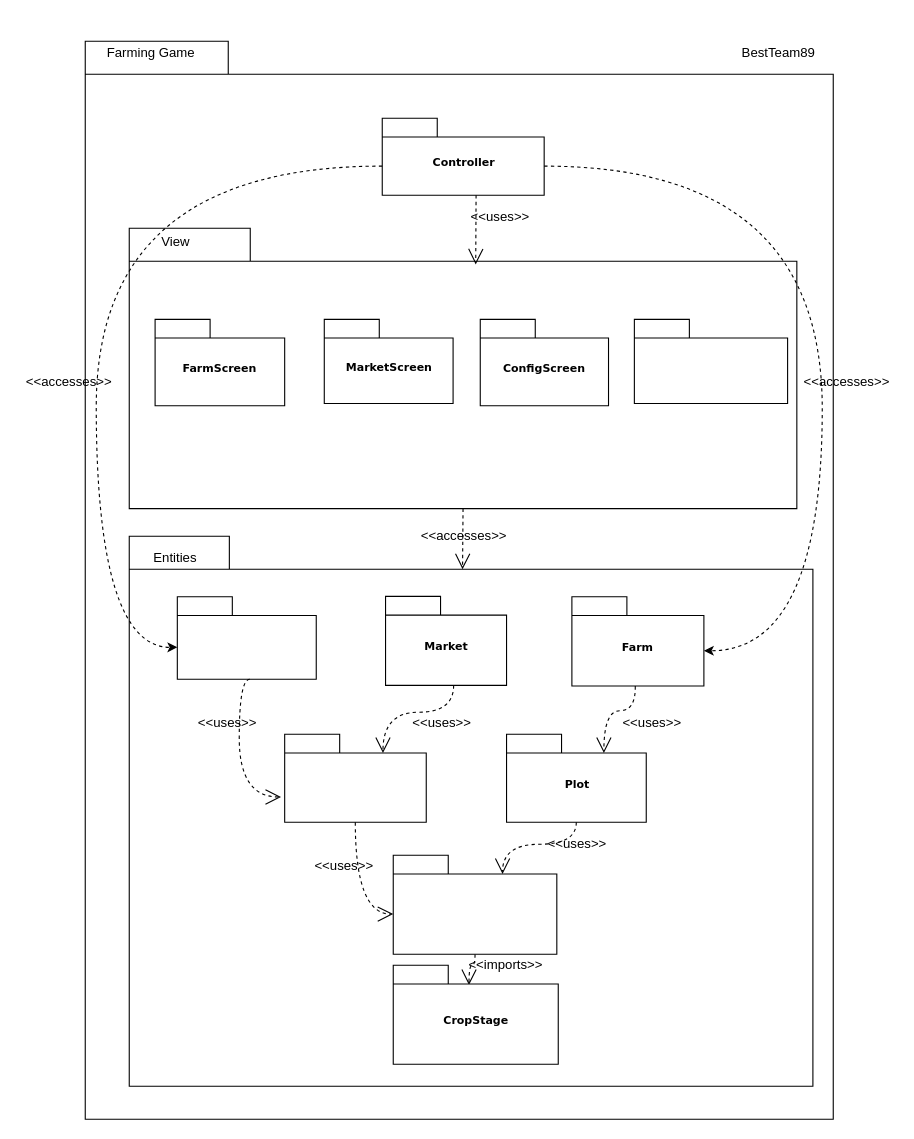
The diagram is 914 pixels wide and 1139 high, and some of its shapes have lost their labels. The centre of each missing label's shape, as x and y in pixels:
Crop: (474,904)
Inventory: (355,777)
Player: (246,637)
WelcomeScreen: (710,360)
